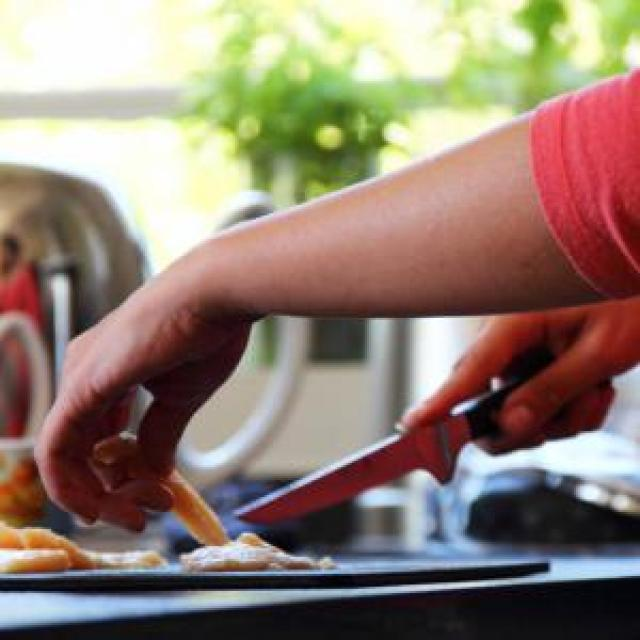knife: (228, 363, 598, 528)
